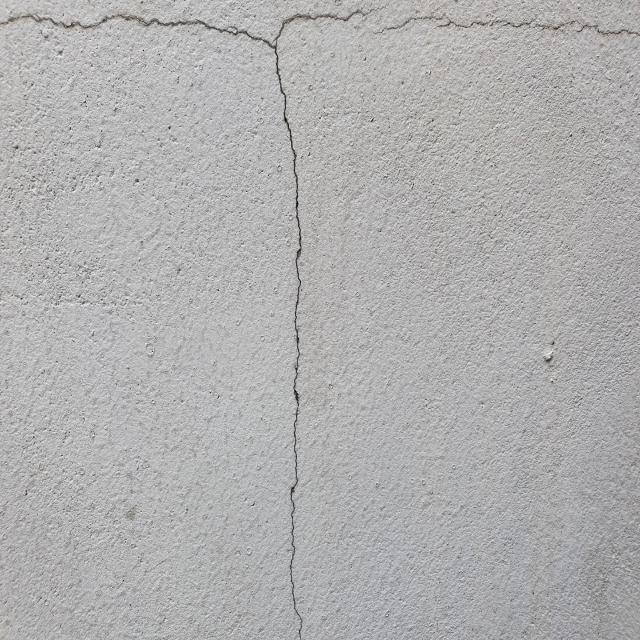SurfaceCrack: (226, 0, 349, 639)
